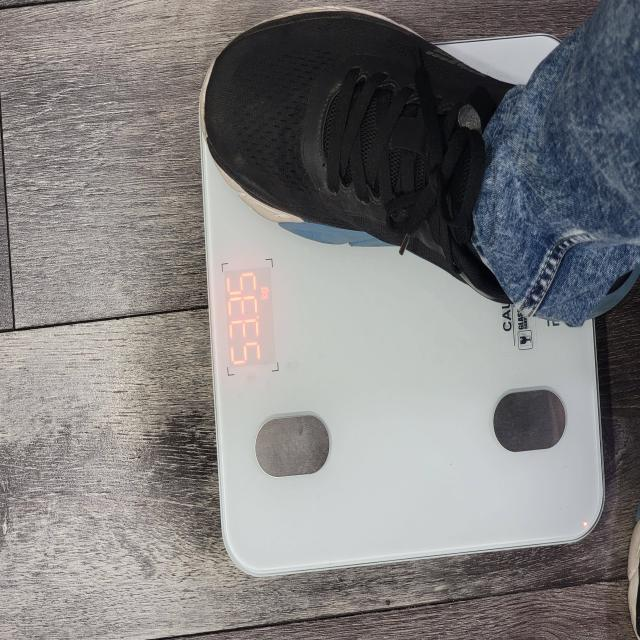ws: (202, 148, 606, 577)
